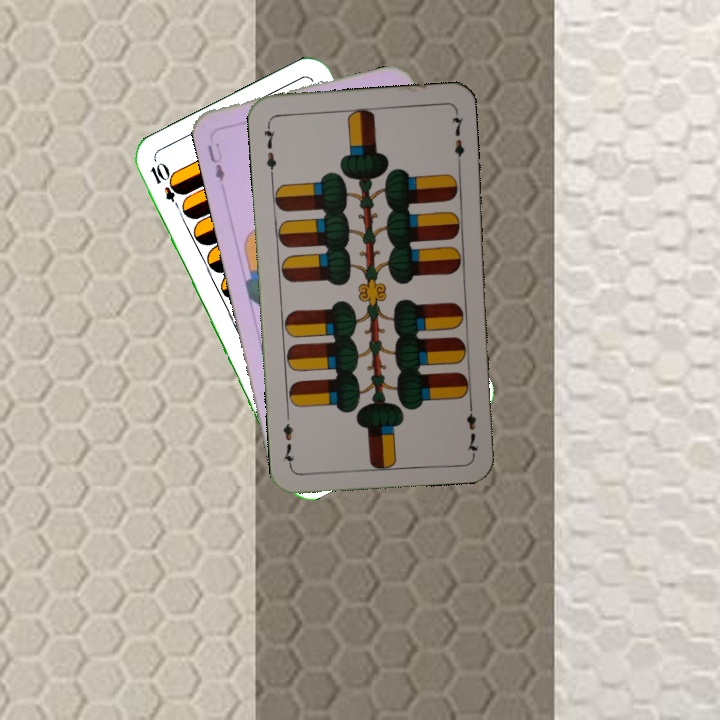E10: (146, 158, 186, 214)
E7: (259, 119, 279, 178), (462, 397, 480, 456)
EU: (203, 138, 227, 184)
